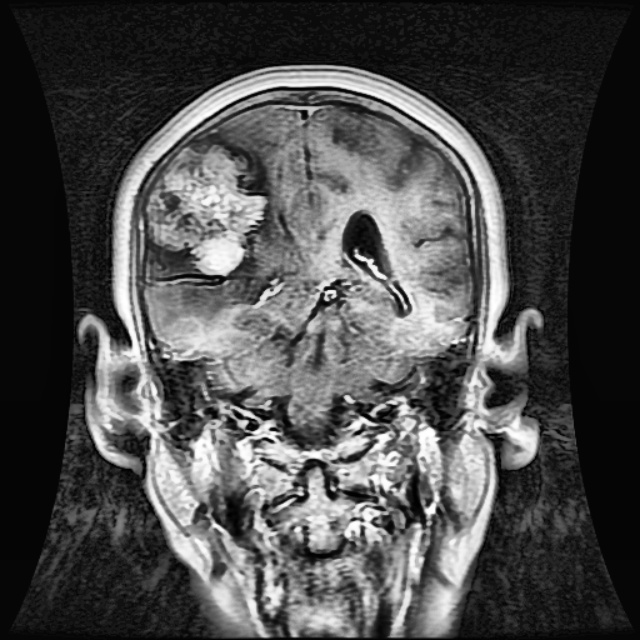Glioma: (144, 142, 265, 275)
